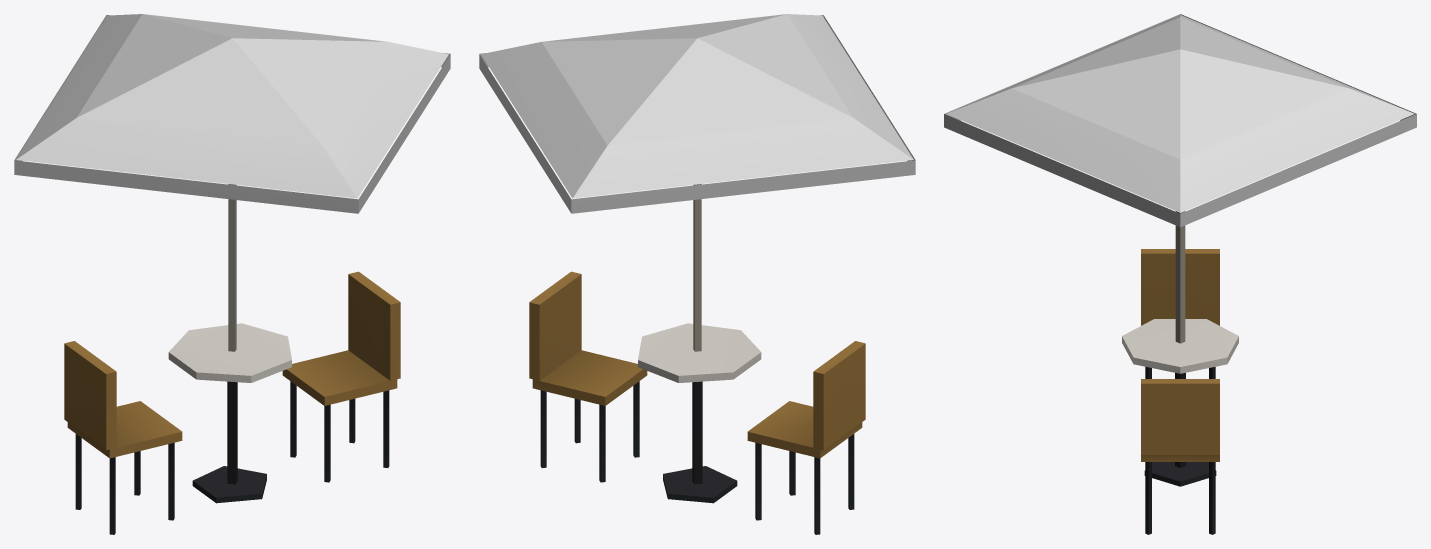
File: pa_bistro_lo-CFviXOMo.glb
The picture shows the model from 3 angles, left to right: view 1: azimuth 30°, elevation 25°; view 2: azimuth 150°, elevation 25°; view 3: azimuth 270°, elevation 25°; orthographic projection. The views are drawn at different scales.
Bounding box in the file's own units: 2.52 × 2.48 × 2.52.
